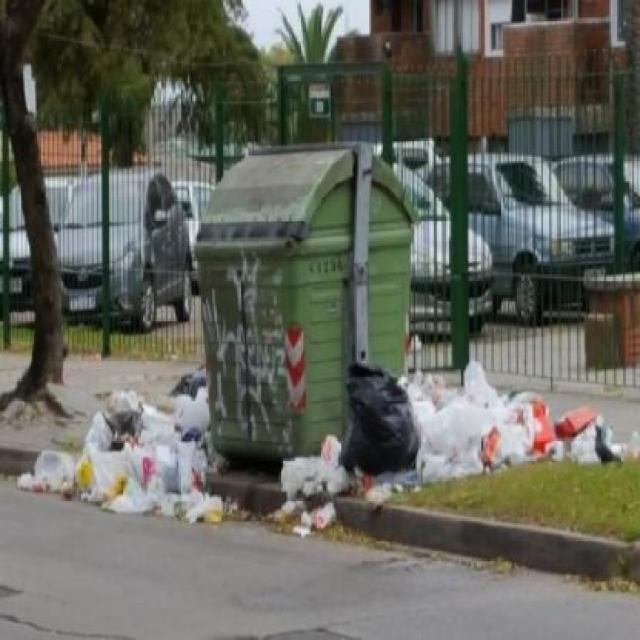garbage: (342, 369, 615, 466), (97, 394, 207, 526), (280, 459, 344, 533), (36, 451, 96, 506), (174, 366, 208, 392)
